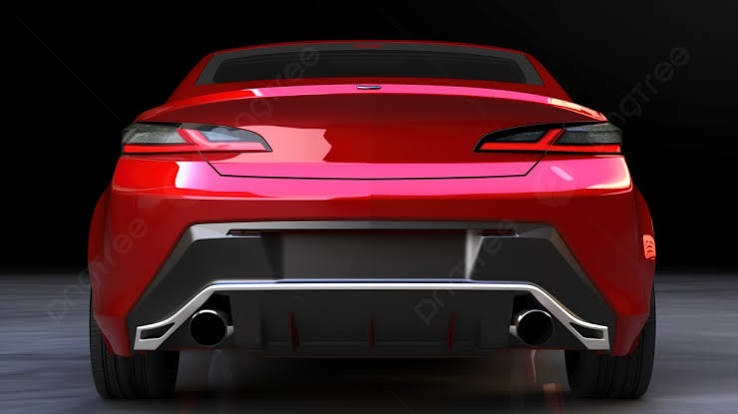car: (82, 25, 666, 406), (87, 32, 670, 403)
